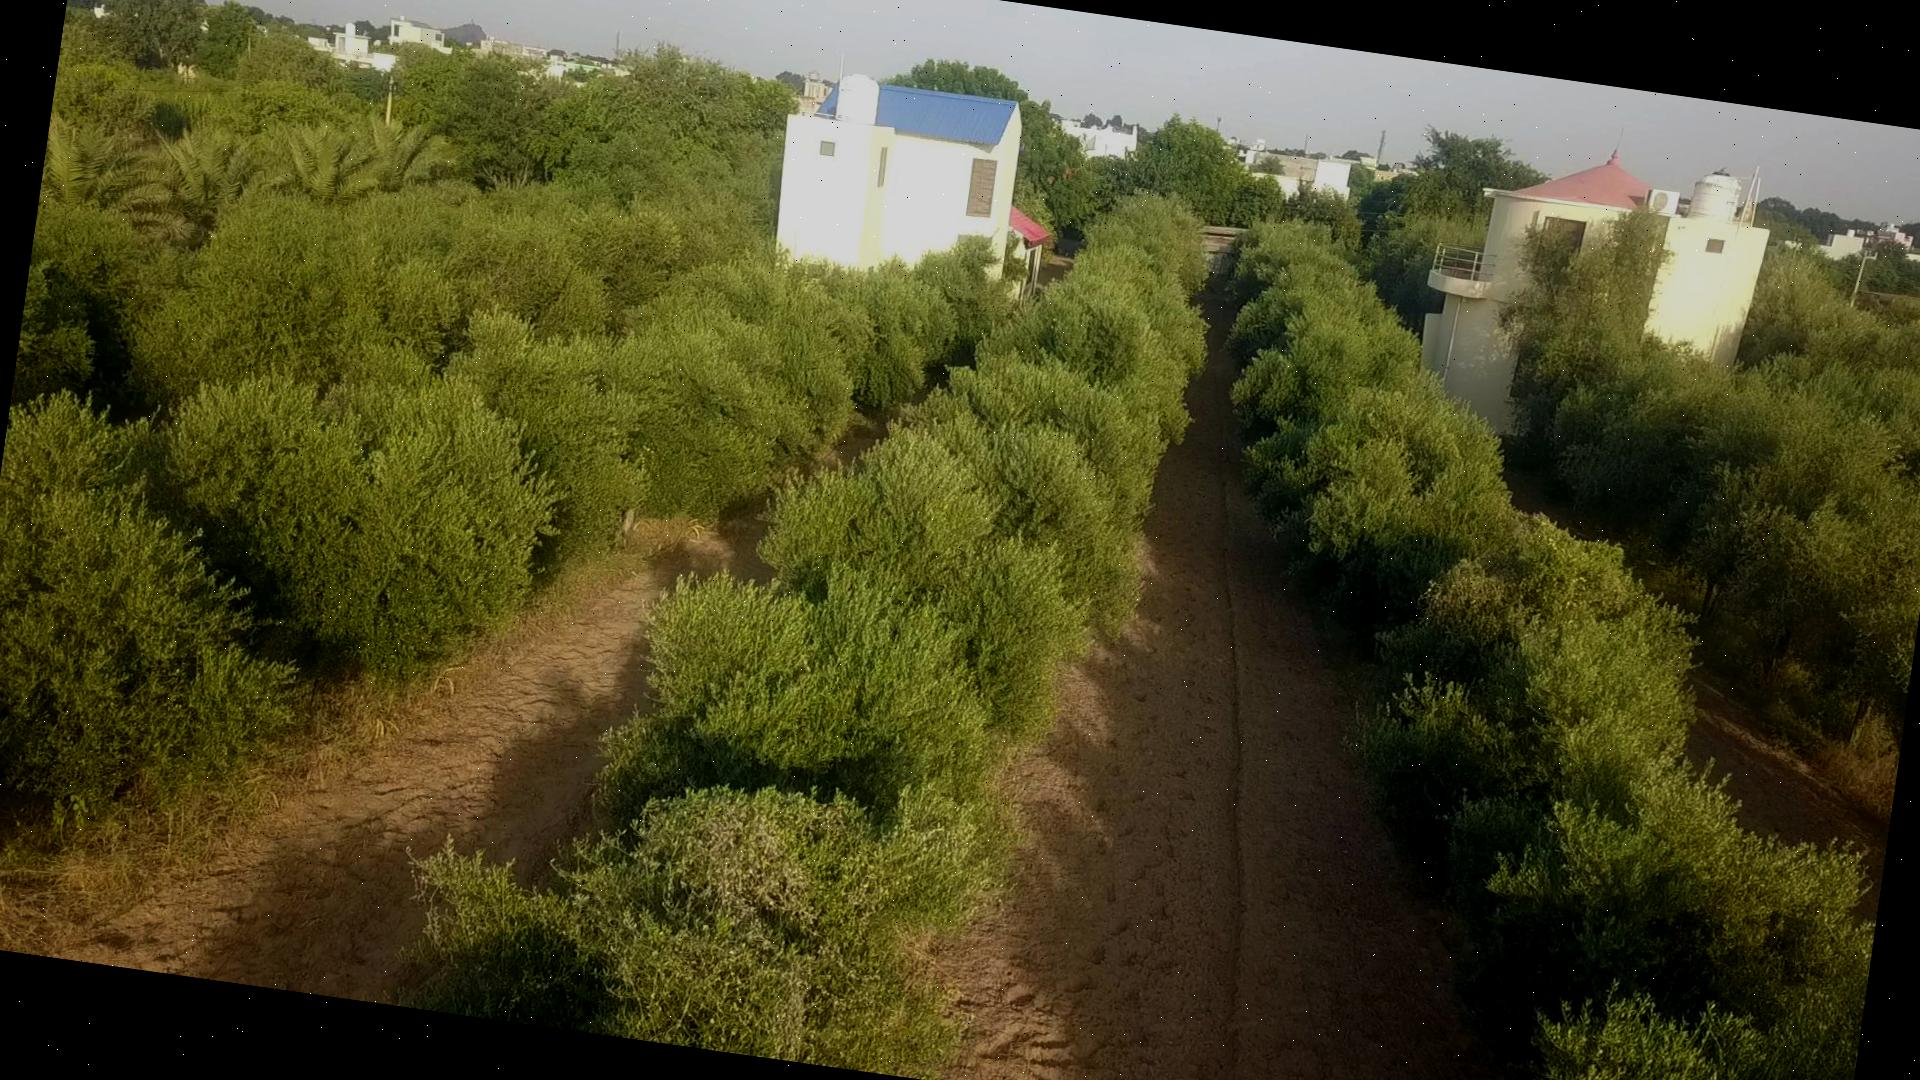canopy: (411, 195, 1215, 1077), (0, 245, 1010, 818), (1226, 222, 1875, 1080), (1503, 216, 1920, 727), (9, 189, 712, 409)
road: (928, 281, 1518, 1080), (0, 516, 767, 1000), (1691, 684, 1887, 919)
